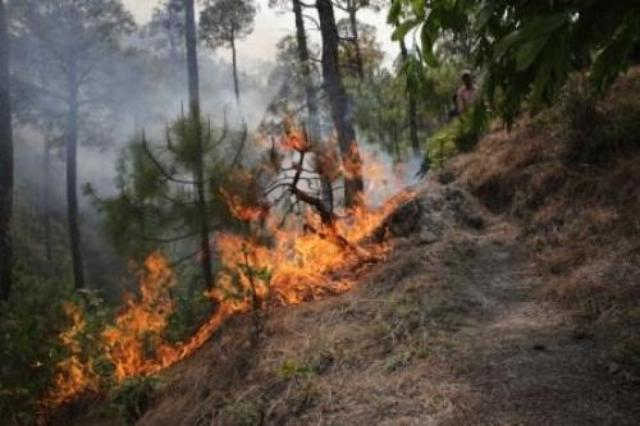fire: (38, 108, 419, 412)
smoke: (1, 1, 425, 233)
